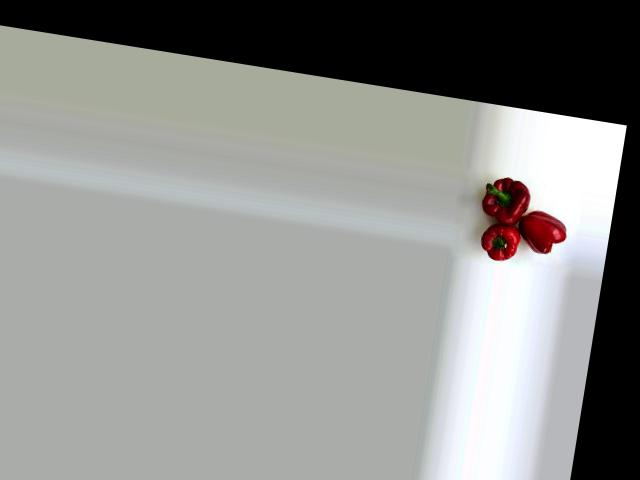bell_pepper: (512, 204, 575, 266)
